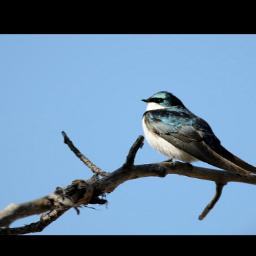Swallow: (140, 90, 256, 178)
